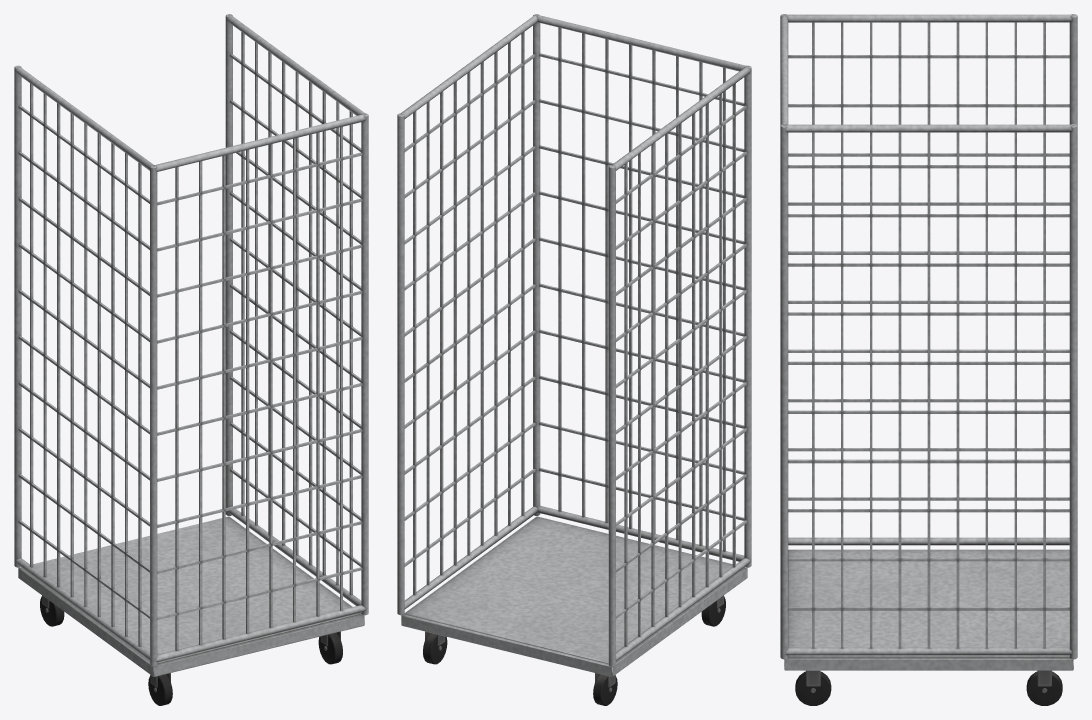
The model's file is RollCage.fbx.
3 views of the same model, side by side, from view 1: azimuth 30°, elevation 25°; view 2: azimuth 150°, elevation 25°; view 3: azimuth 270°, elevation 25° (orthographic). The views are drawn at different scales.
Parts seen in each view (by area): view 1: RollCage_LOD0; view 2: RollCage_LOD0; view 3: RollCage_LOD0.
Boxes of the visible parts, left/top/right/bottom form: RollCage_LOD0: left=14, top=14, right=368, bottom=705; RollCage_LOD0: left=397, top=14, right=751, bottom=705; RollCage_LOD0: left=780, top=14, right=1077, bottom=705.
Size of what is drawn, in the model's own units: 0.742 by 1.8 by 0.822.
1 material, 1 textured.
